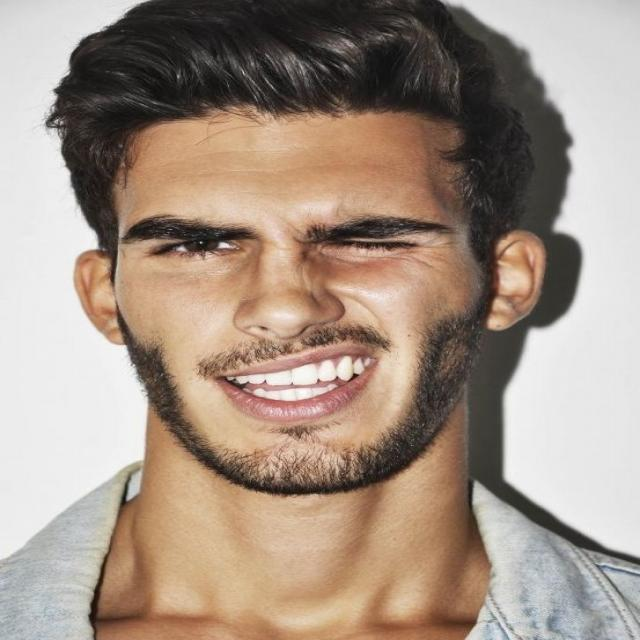earlobe: (94, 308, 129, 346), (485, 296, 516, 331)
eye: (328, 237, 418, 255), (164, 237, 237, 257)
nose: (241, 324, 342, 358)
wholeear: (485, 230, 548, 332), (73, 249, 129, 345)
